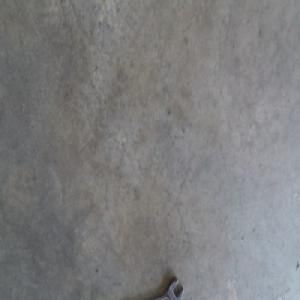Wrench: (153, 275, 186, 299)
